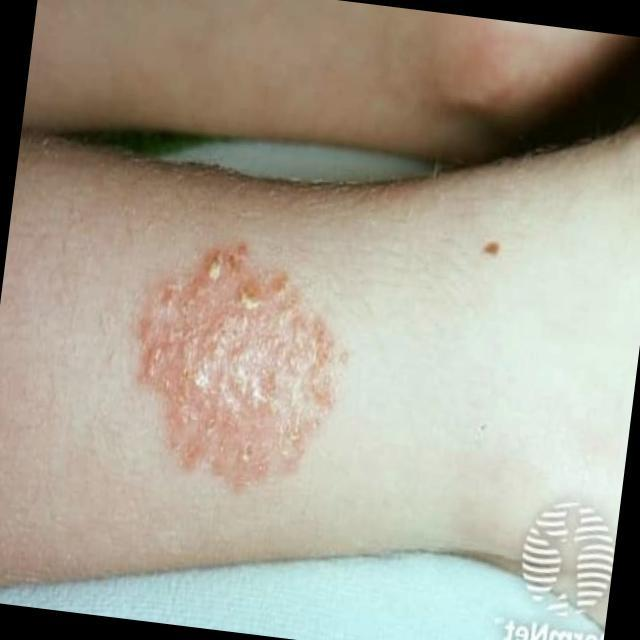Eczema: (132, 247, 349, 480)
